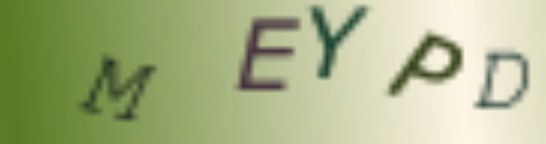D: (474, 49, 535, 113)
E: (231, 14, 303, 93)
M: (77, 53, 160, 125)
P: (386, 30, 465, 98)
Y: (305, 4, 372, 84)
